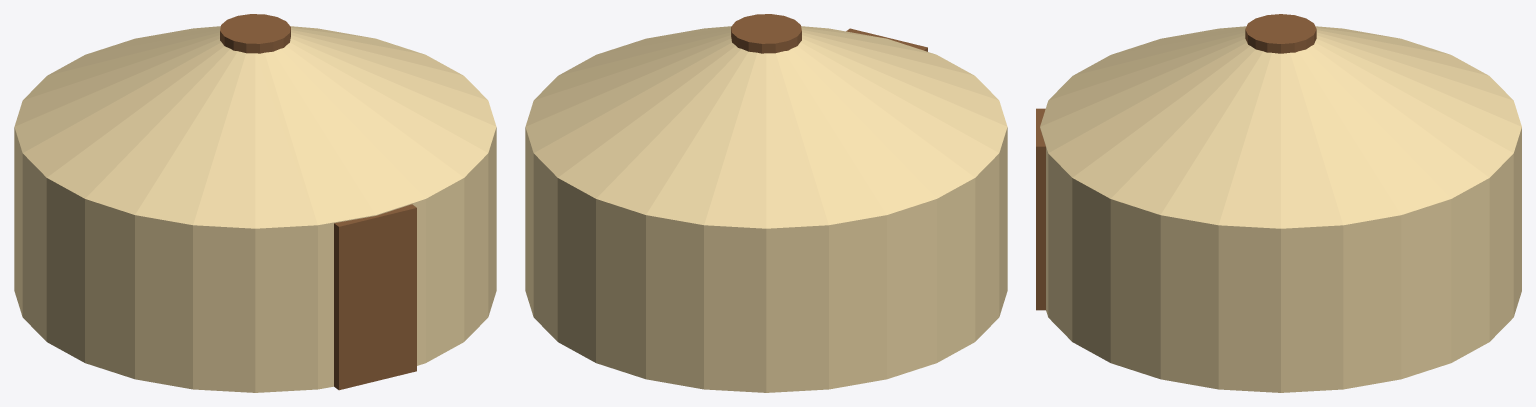
Rendered from scendance-plan-yurt.glb.
The picture shows the model from 3 angles, left to right: view 1: azimuth 30°, elevation 25°; view 2: azimuth 150°, elevation 25°; view 3: azimuth 270°, elevation 25°; orthographic projection.
Size of the model in its own units: 5.4 by 3.24 by 5.45.
